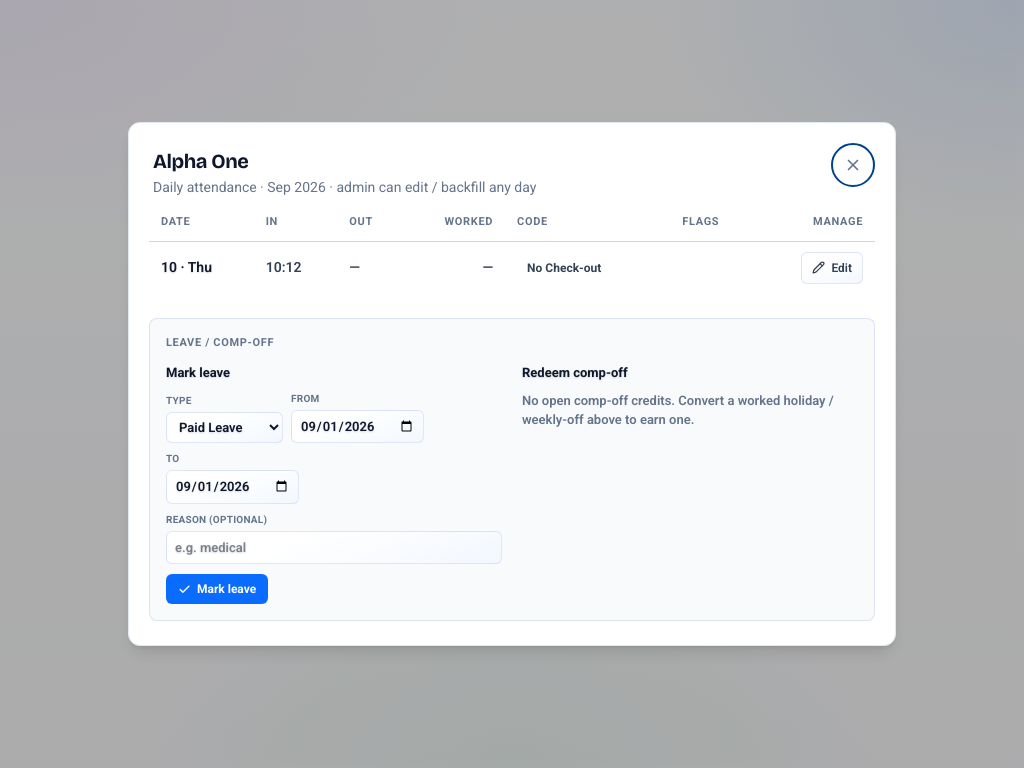
Test: admin day editor › shows the salary-run notice for the month
Step 1. Click the button "Edit" → (832, 268), box [801,252,863,284]
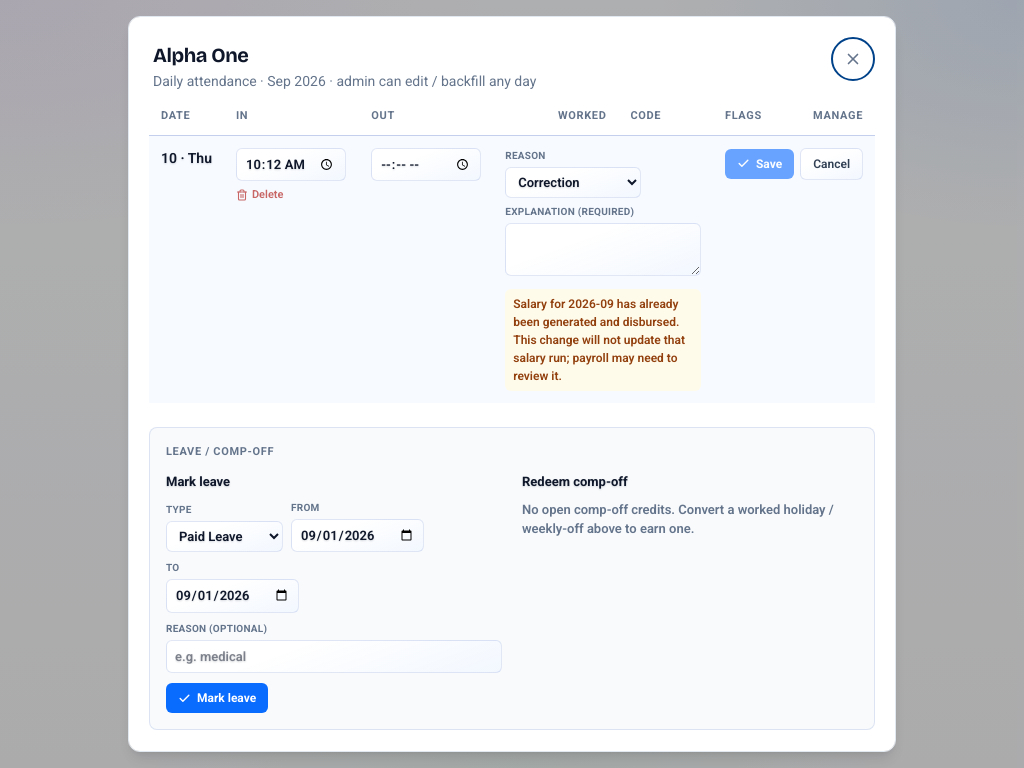
Now the text "Salary for 2026-09 has already been generated and disbursed" shows "will not update that salary run", box [513,314,685,382]
